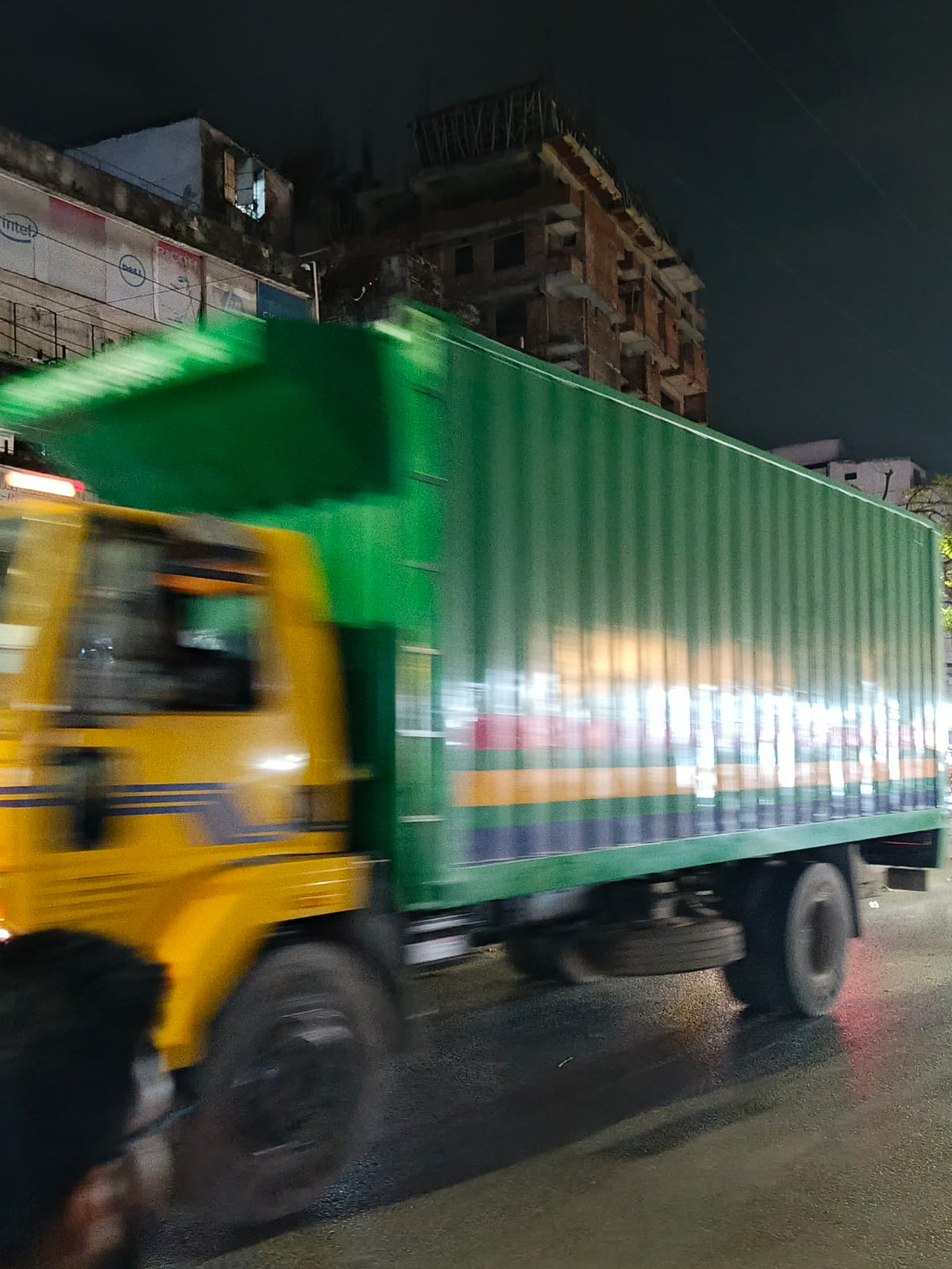Truck: (0, 279, 952, 1234)
